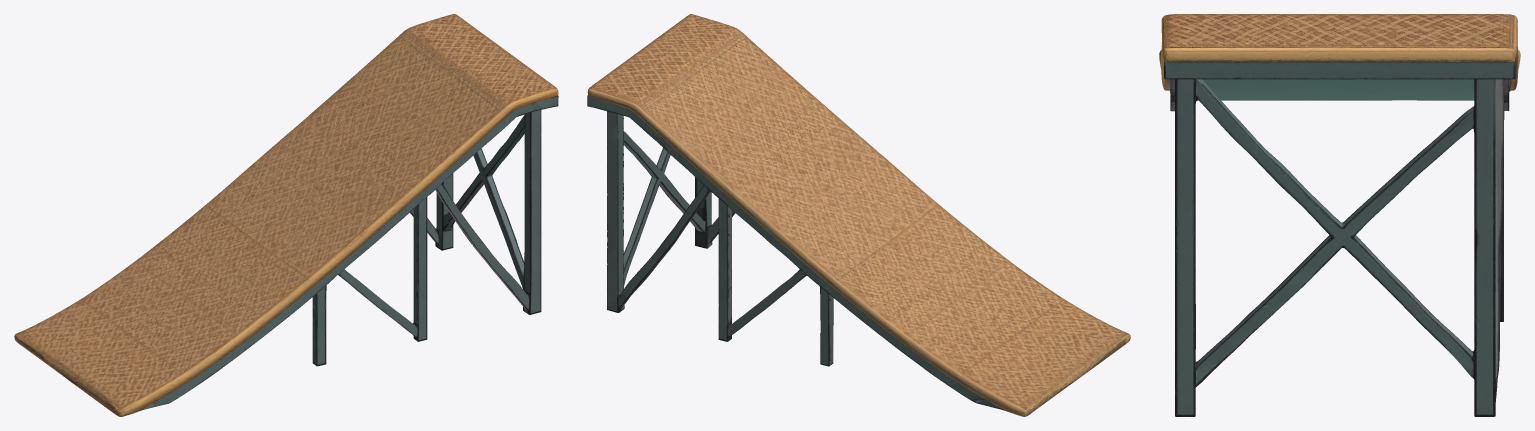
File: ramp.glb
The picture shows the model from 3 angles, left to right: view 1: azimuth 30°, elevation 25°; view 2: azimuth 150°, elevation 25°; view 3: azimuth 270°, elevation 25°; orthographic projection. The views are drawn at different scales.
Bounding box in the file's own units: 1.9 × 0.9185 × 0.7893.
1 material, 1 textured.
